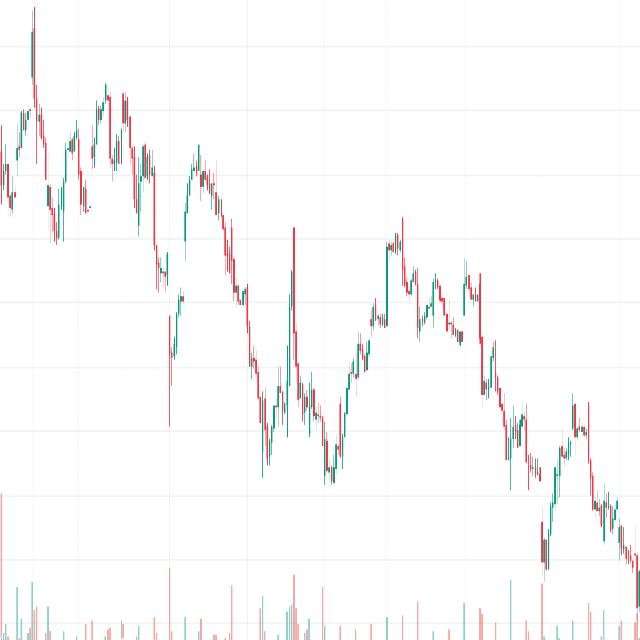Double-Bottom: (212, 174, 380, 511)
Rounding-Top: (54, 78, 163, 239)
